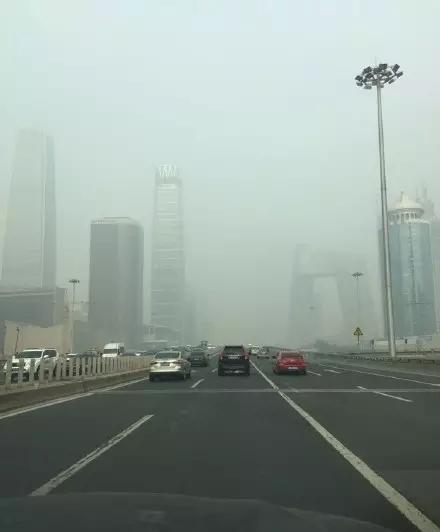car: (3, 348, 57, 377), (148, 350, 191, 382), (218, 343, 250, 377), (270, 350, 306, 375), (101, 341, 125, 364), (186, 349, 209, 369), (62, 352, 83, 369), (255, 347, 270, 360), (134, 351, 149, 361), (249, 346, 260, 355)
